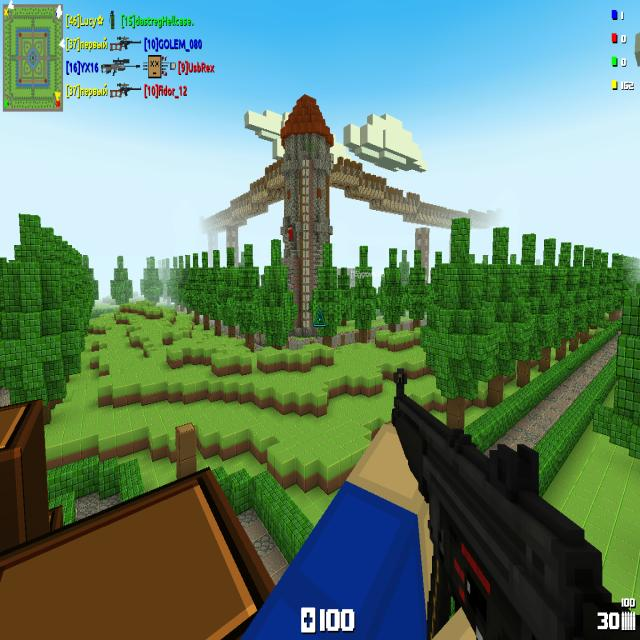enemy: (288, 226, 293, 242)
